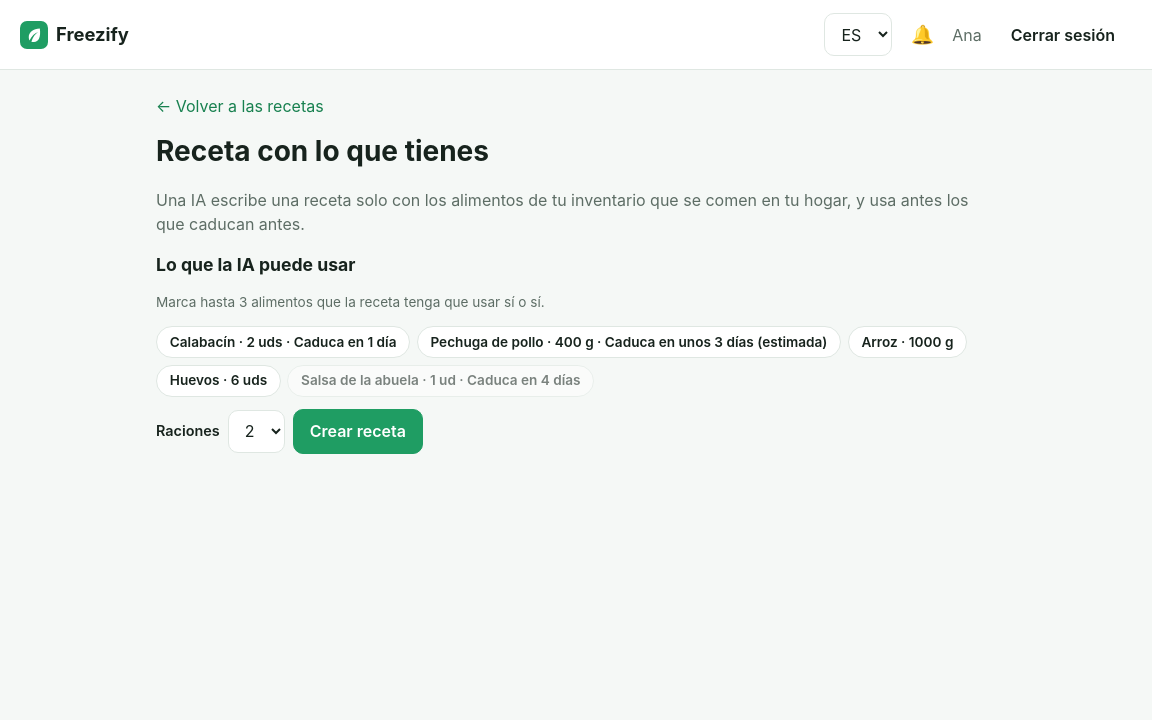
Test: recipe written by AI › says why there is no recipe
Step 1. Click the button "Crear receta" → {"x": 358, "y": 431}, box x1=293 y1=408 x2=423 y2=454
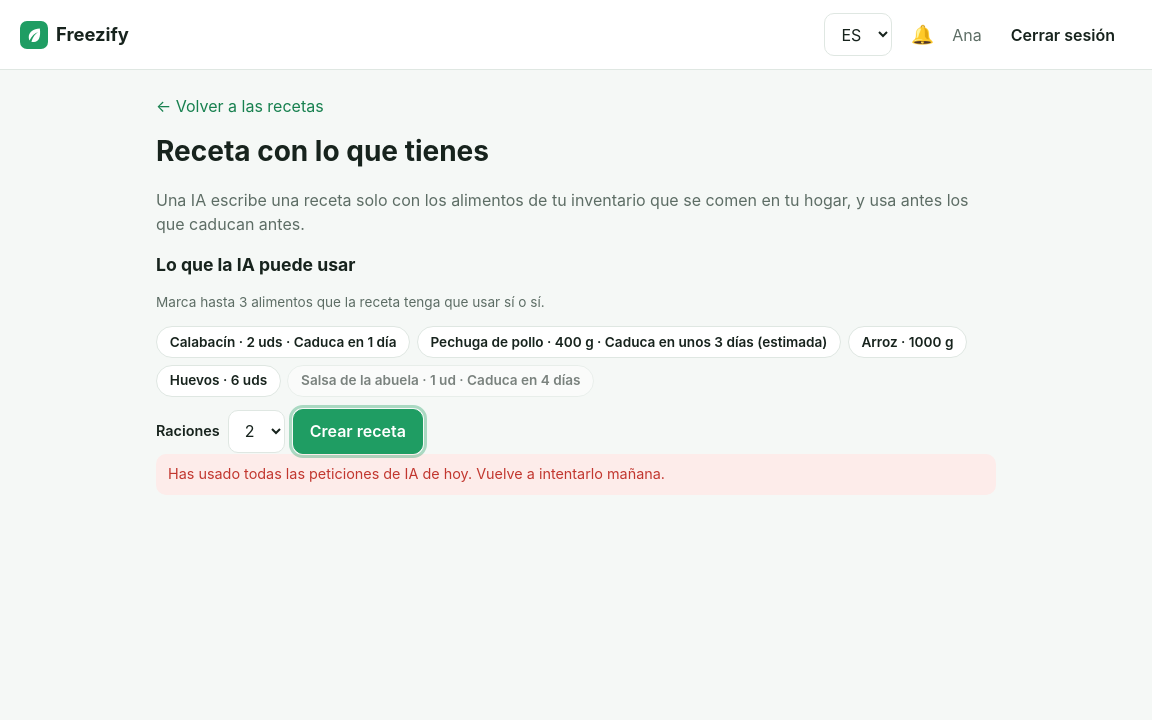
expect the message shows "Has usado todas las peticiones de IA de hoy": met, box x1=168 y1=465 x2=665 y2=482
